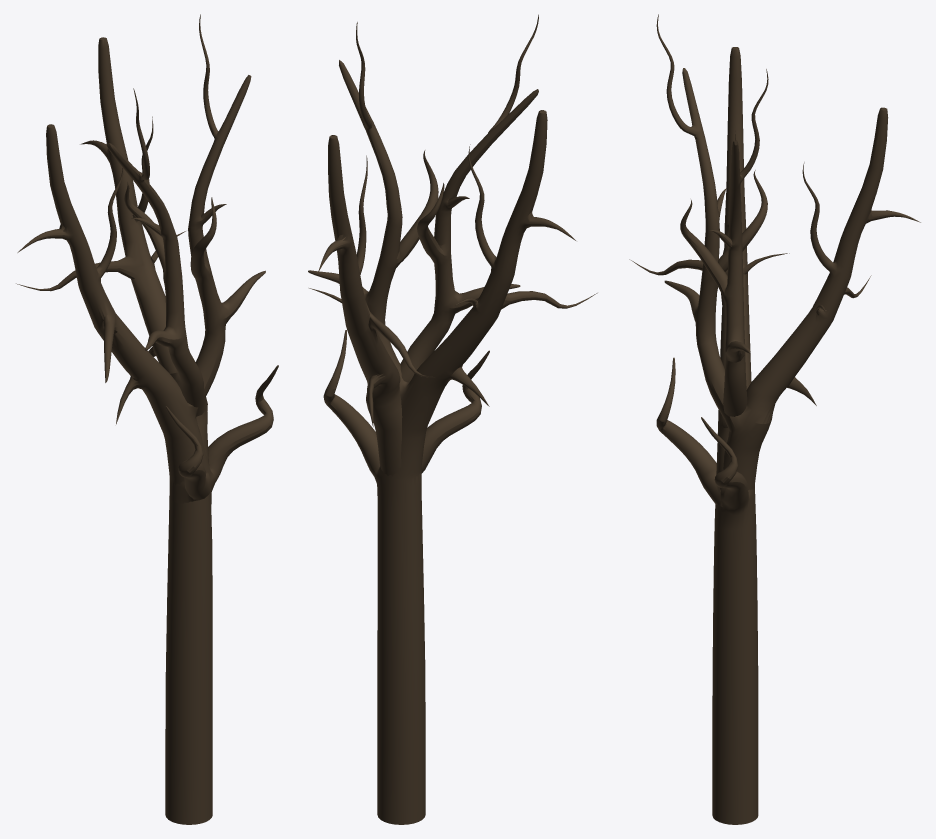
File: tree_winter.gltf
3 views of the same model, side by side, from view 1: azimuth 30°, elevation 25°; view 2: azimuth 150°, elevation 25°; view 3: azimuth 270°, elevation 25° (orthographic). The views are drawn at different scales.
Parts seen in each view (by area): view 1: pCylinder1, pasted__pCylinder1; view 2: pCylinder1, pasted__pCylinder1; view 3: pCylinder1, pasted__pCylinder1.
Boxes of the visible parts, x1=… form: pCylinder1: x1=17, y1=14, x2=278, y2=824; pasted__pCylinder1: x1=16, y1=37, x2=211, y2=503; pCylinder1: x1=308, y1=22, x2=597, y2=824; pasted__pCylinder1: x1=309, y1=14, x2=538, y2=495; pCylinder1: x1=629, y1=47, x2=789, y2=824; pasted__pCylinder1: x1=656, y1=14, x2=920, y2=506.
Bounding box in the file's own units: 0.0368 × 0.1072 × 0.0376.
